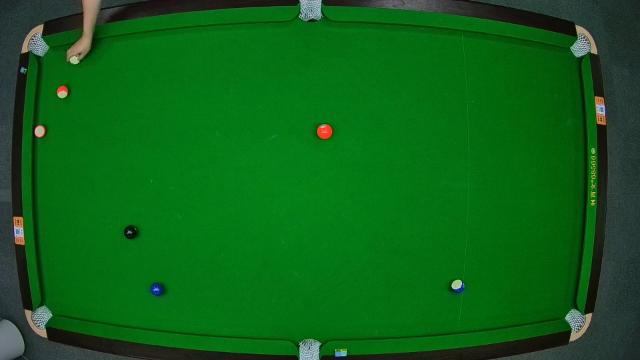bag1: (26, 35, 46, 55)
bag2: (301, 1, 323, 23)
bag3: (574, 36, 592, 58)
bag4: (33, 306, 53, 328)
bag5: (298, 342, 322, 360)
bag6: (564, 310, 586, 332)
ball0: (68, 54, 84, 66)
ball10: (450, 278, 466, 294)
ball12: (34, 124, 50, 138)
ball13: (56, 86, 70, 98)
ball2: (150, 280, 167, 298)
ball5: (317, 124, 333, 140)
ball8: (125, 225, 138, 241)
